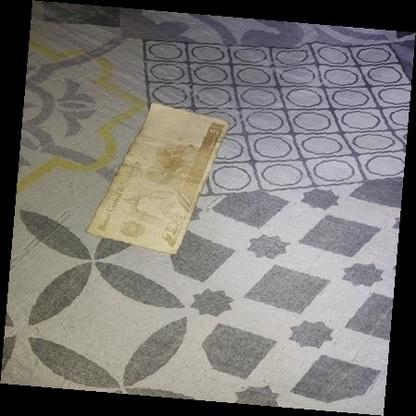five-back-vef: (84, 102, 229, 255)
